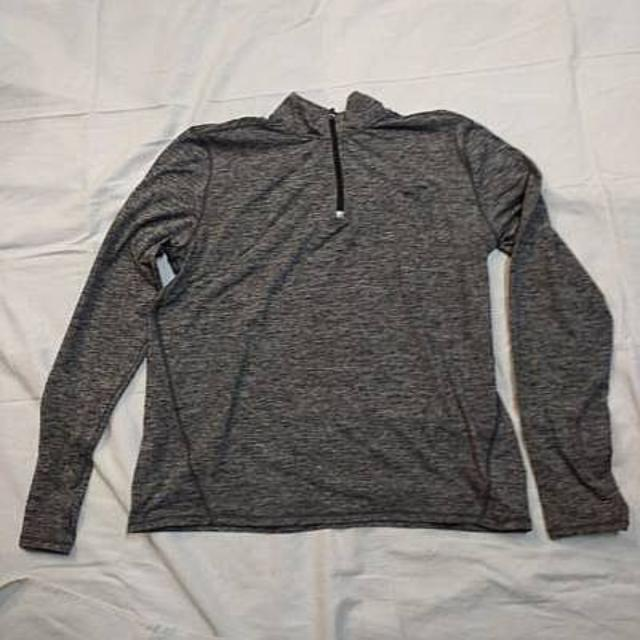SHIRT: (14, 83, 640, 570)
